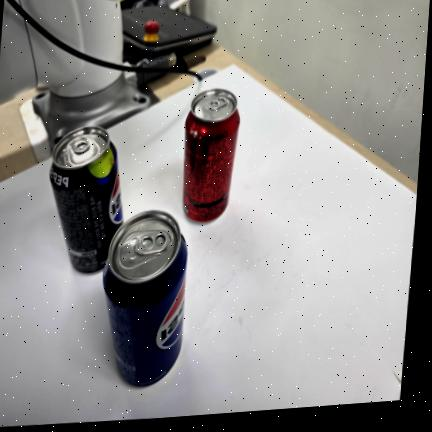can_coke_zero: (182, 88, 239, 221)
can_pepsi: (103, 210, 186, 386)
can_pepsi_zero: (49, 126, 122, 272)
